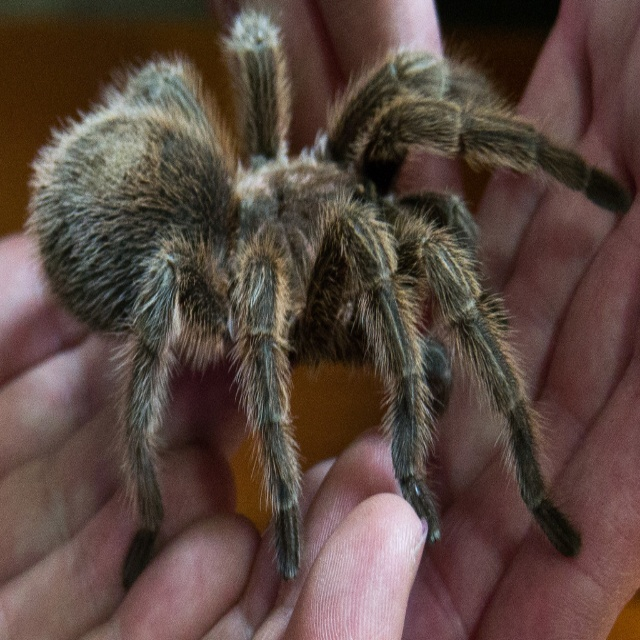Spider: (22, 0, 633, 594)
